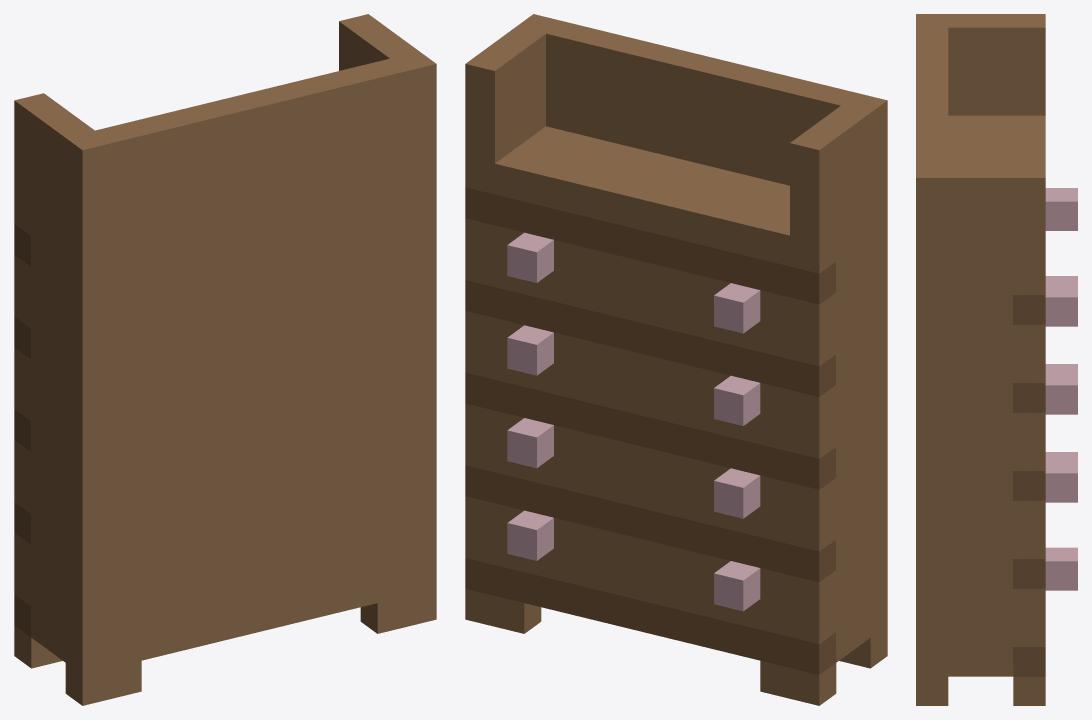
The model's file is komod.dae.
The picture shows the model from 3 angles, left to right: view 1: azimuth 30°, elevation 25°; view 2: azimuth 150°, elevation 25°; view 3: azimuth 270°, elevation 25°; orthographic projection. The views are drawn at different scales.
Visible parts, largest first — view 1: komod; view 2: komod; view 3: komod.
Part boxes in pixels (x1,y1,x2,y2): komod: (14, 14, 436, 705); komod: (465, 14, 887, 705); komod: (916, 14, 1077, 705).
Size of the model in its own units: 1.2 by 0.5 by 1.8.
1 material, 1 textured.
